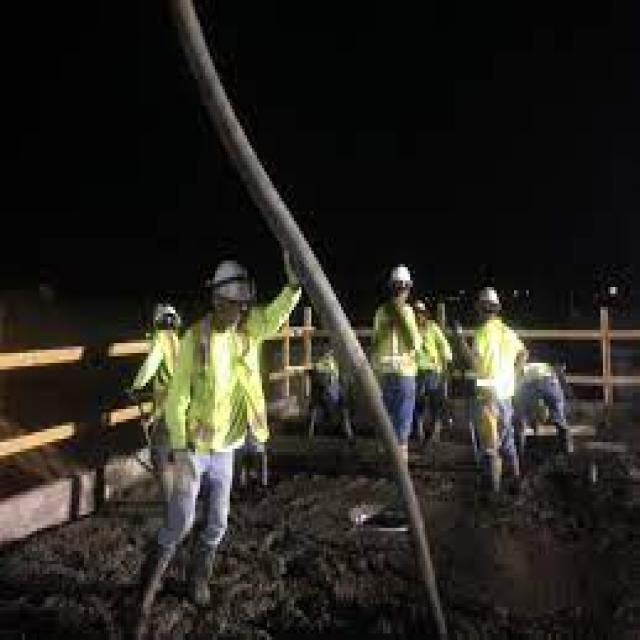Reflective-Jacket: (190, 307, 284, 465), (469, 313, 529, 416), (366, 297, 425, 389)
Safety-Helmet: (200, 251, 262, 310), (383, 254, 420, 300), (472, 277, 509, 317)
